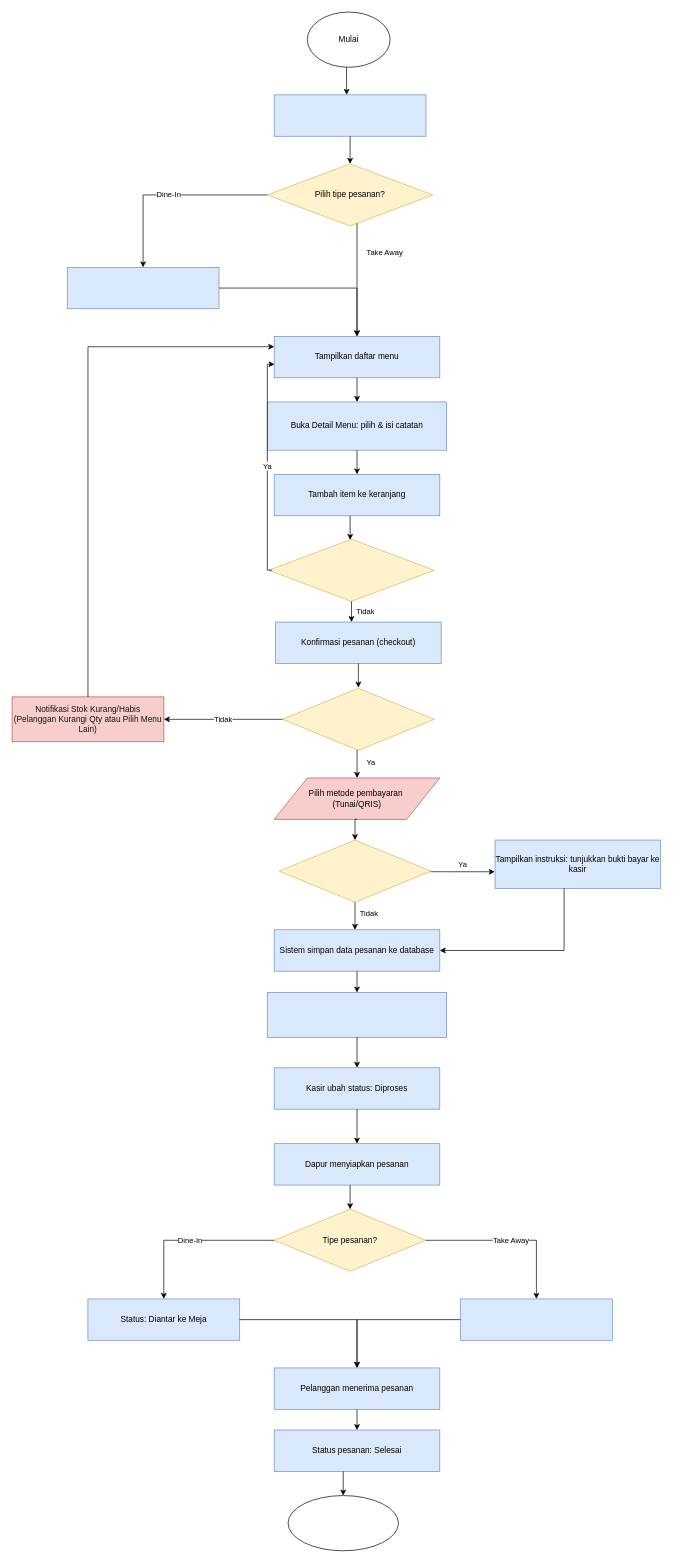
The diagram is 673 pixels wide and 1563 high, and some of its shapes have lost their labels. The centre of each missing label's shape, as x and y in pixels:
Metode = QRIS?: the point at 354,870
Nomor meja otomatis terisi dari QR: the point at 143,288
Pelanggan scan QR code: the point at 350,115
Pesanan muncul di dashboard kasir (real-time): the point at 357,1014
Selesai: the point at 342,1523
Status: Siap Diambil: the point at 536,1319
Stok bahan tersedia?: the point at 358,719
Tambah menu lain?: the point at 351,570
